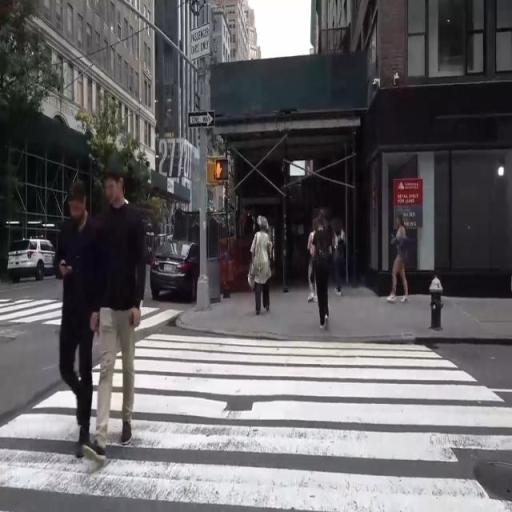person: (94, 153, 138, 475), (54, 177, 98, 460), (253, 218, 279, 327), (318, 218, 340, 328), (391, 211, 412, 304), (338, 220, 351, 286), (311, 228, 322, 301)
